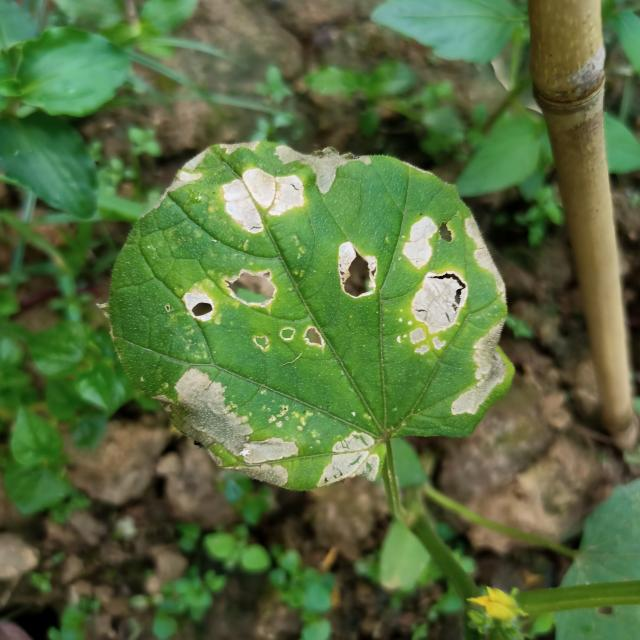disease_cucumber: (154, 236, 389, 494), (328, 207, 511, 422), (119, 138, 376, 238)
